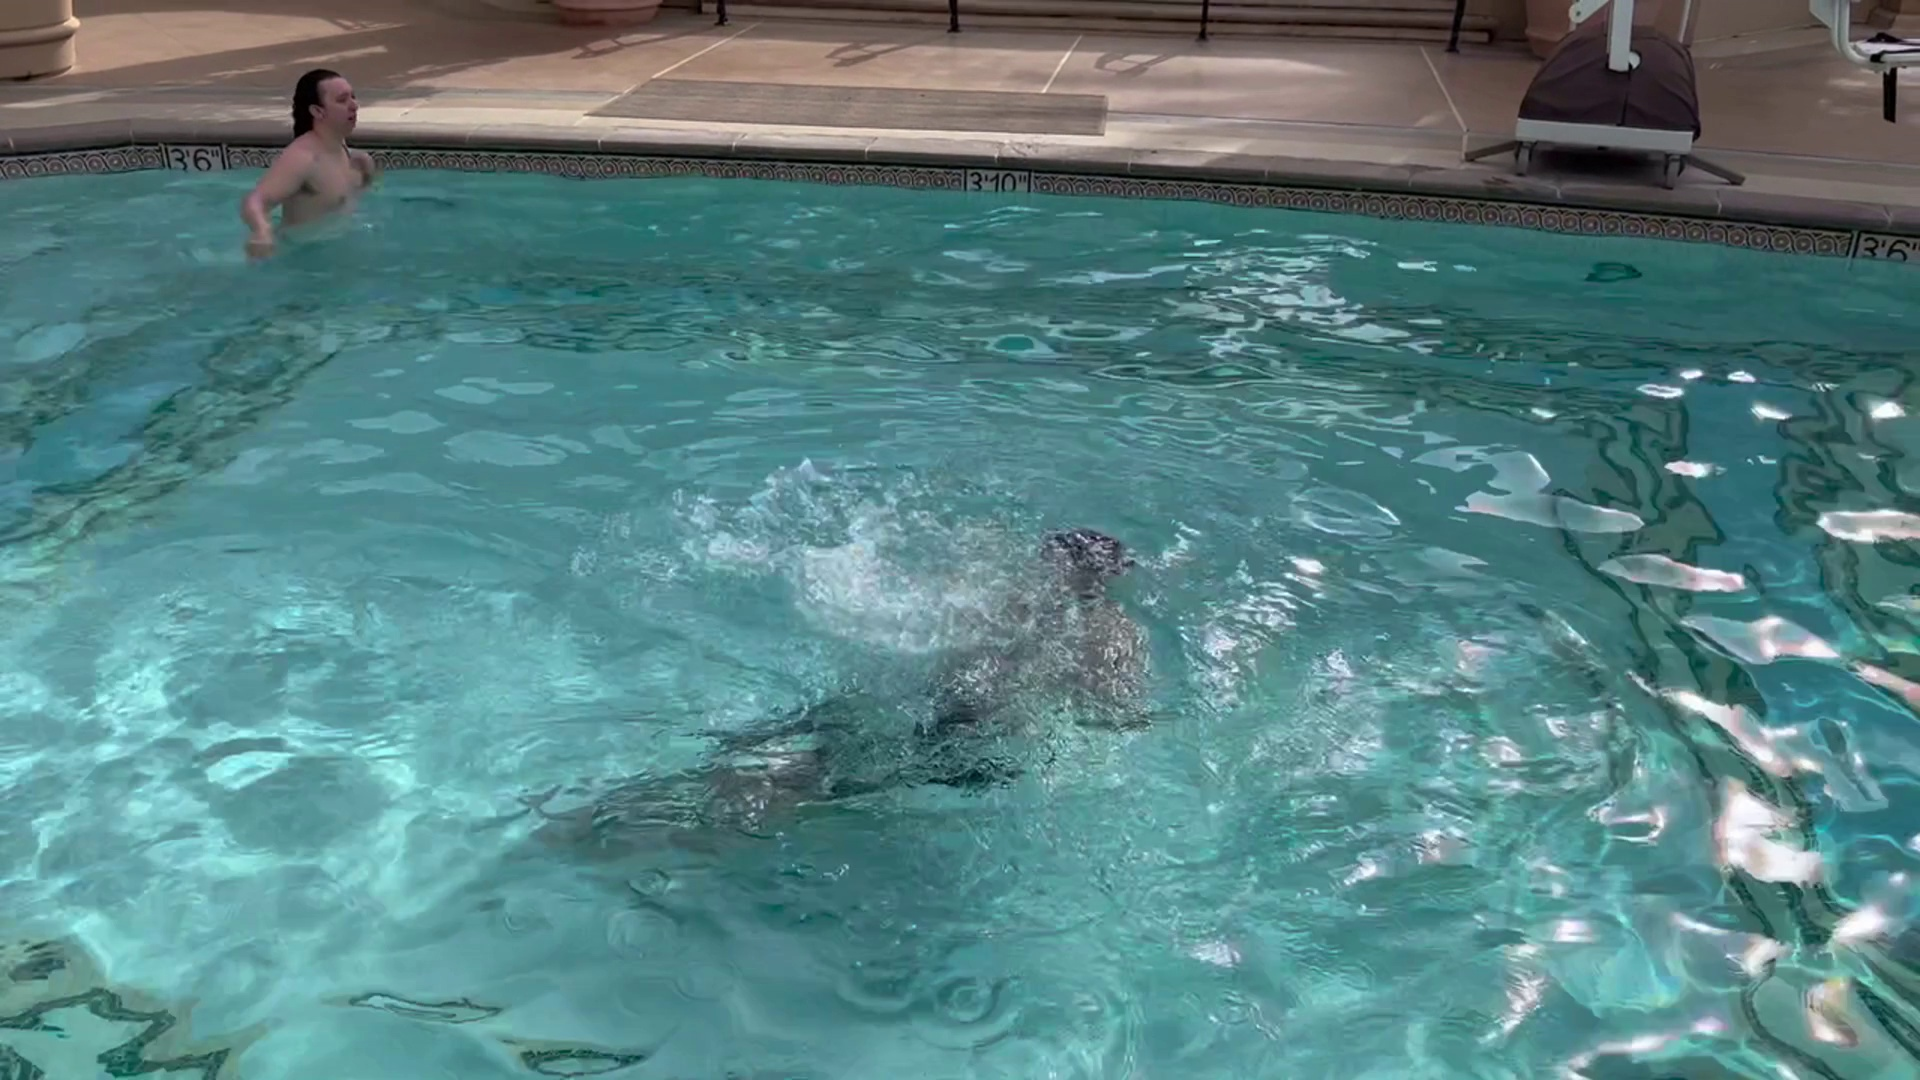danger: (756, 440, 1156, 702)
